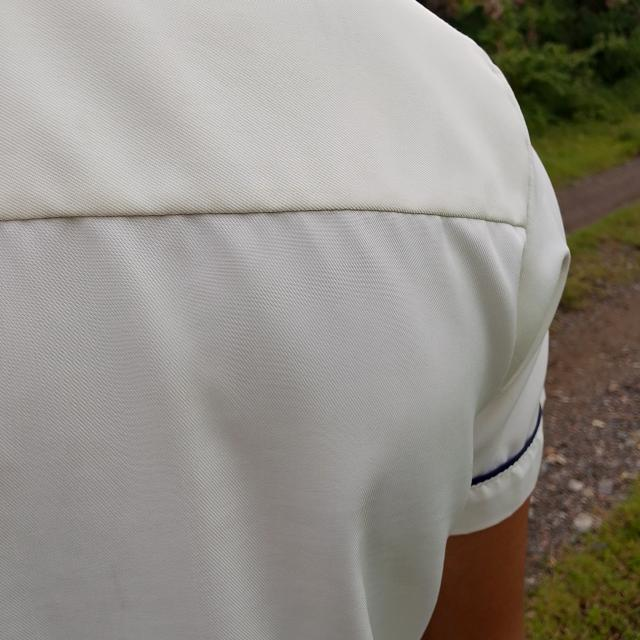education_male_uniform: (0, 0, 548, 560)
